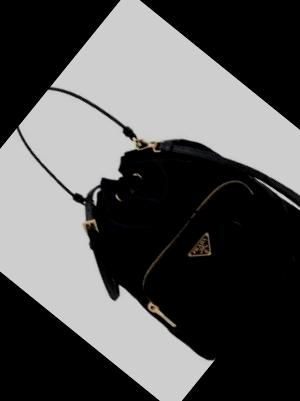PRADA: (186, 230, 220, 264)
